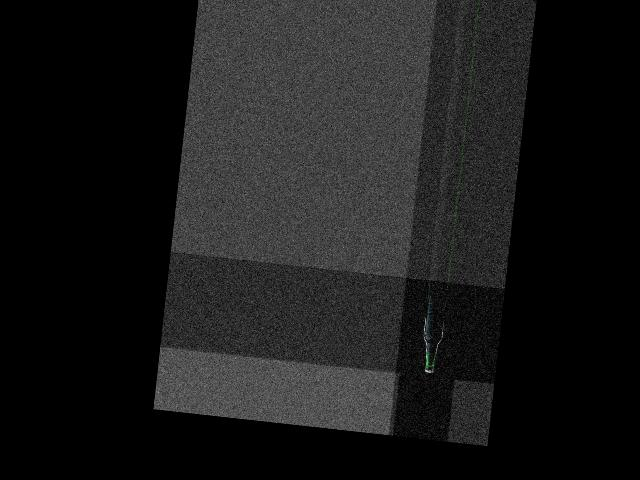beer: (418, 293, 446, 373)
